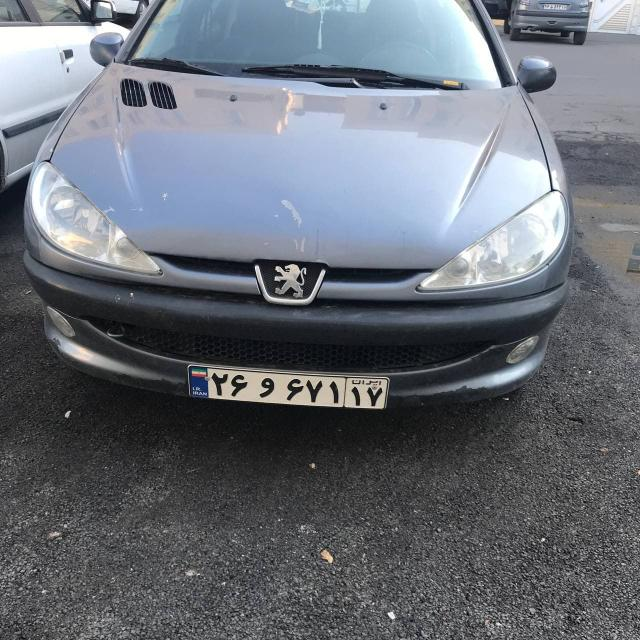Plates: (187, 366, 388, 410)
